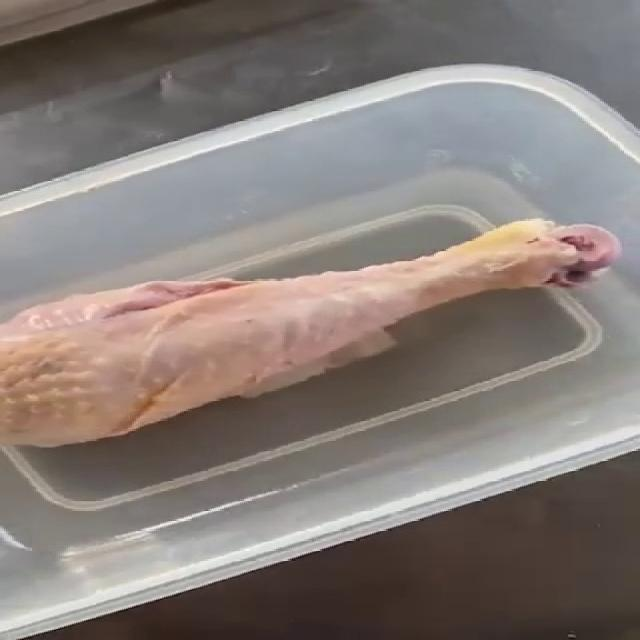chicken: (0, 217, 640, 459)
